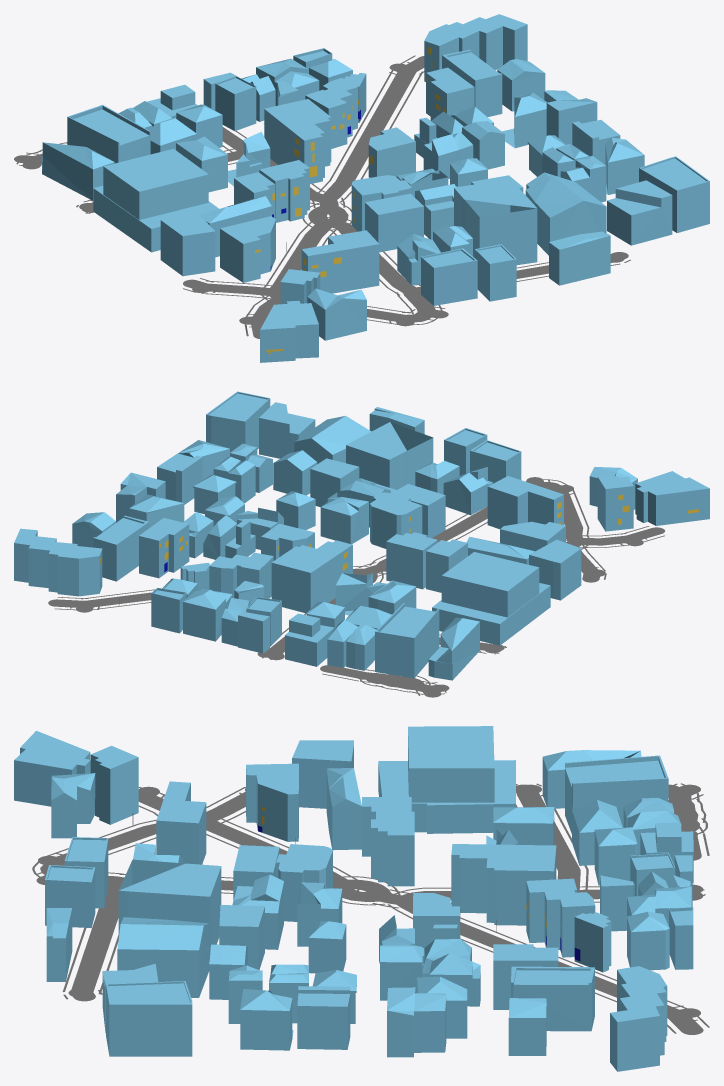
File: results_route5_lod3.obj
3 renders of one model, top to bottom at view 1: azimuth 30°, elevation 25°; view 2: azimuth 150°, elevation 25°; view 3: azimuth 270°, elevation 25°, orthographic. The views are drawn at different scales.
Bounding box in the file's own units: 126 × 12.76 × 123.
